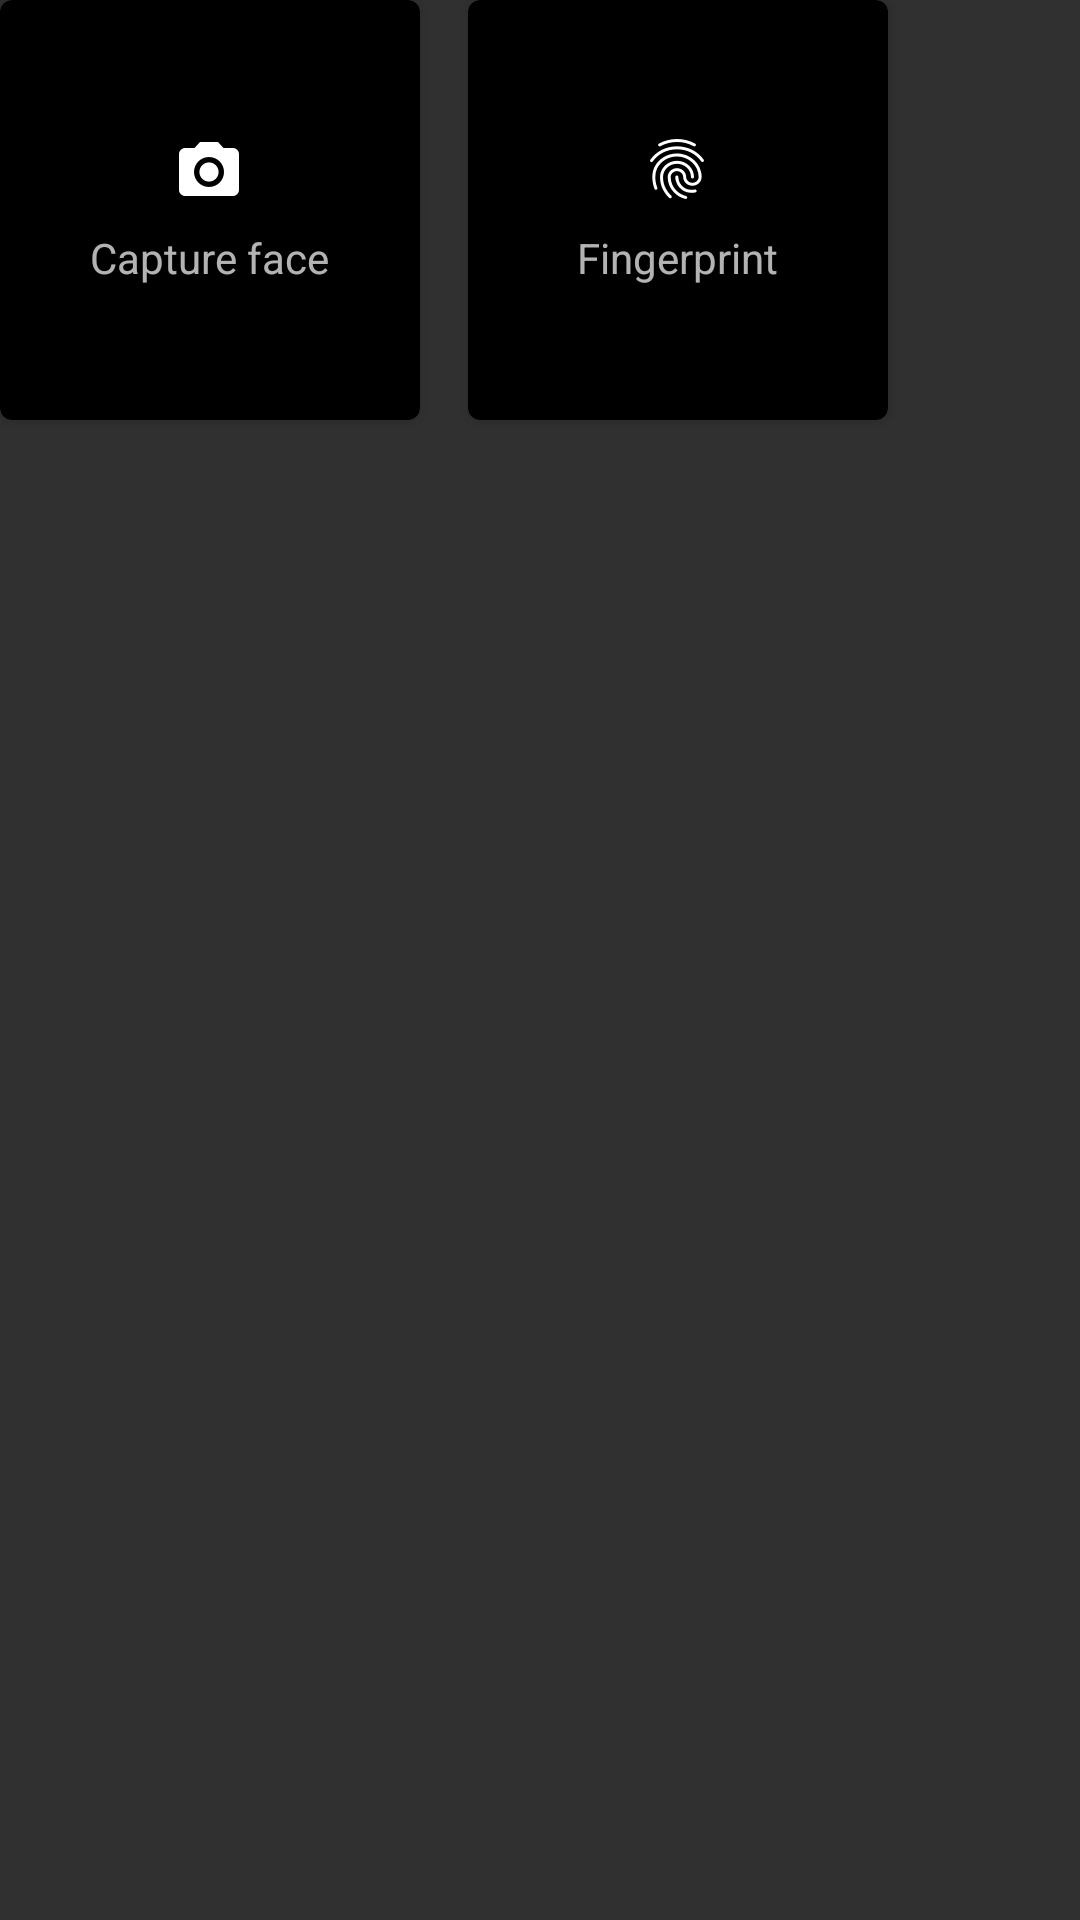

Point at icon controls on the screen. Image size 1080px x 1920px, points as [x,y].
camera: [209,169]
